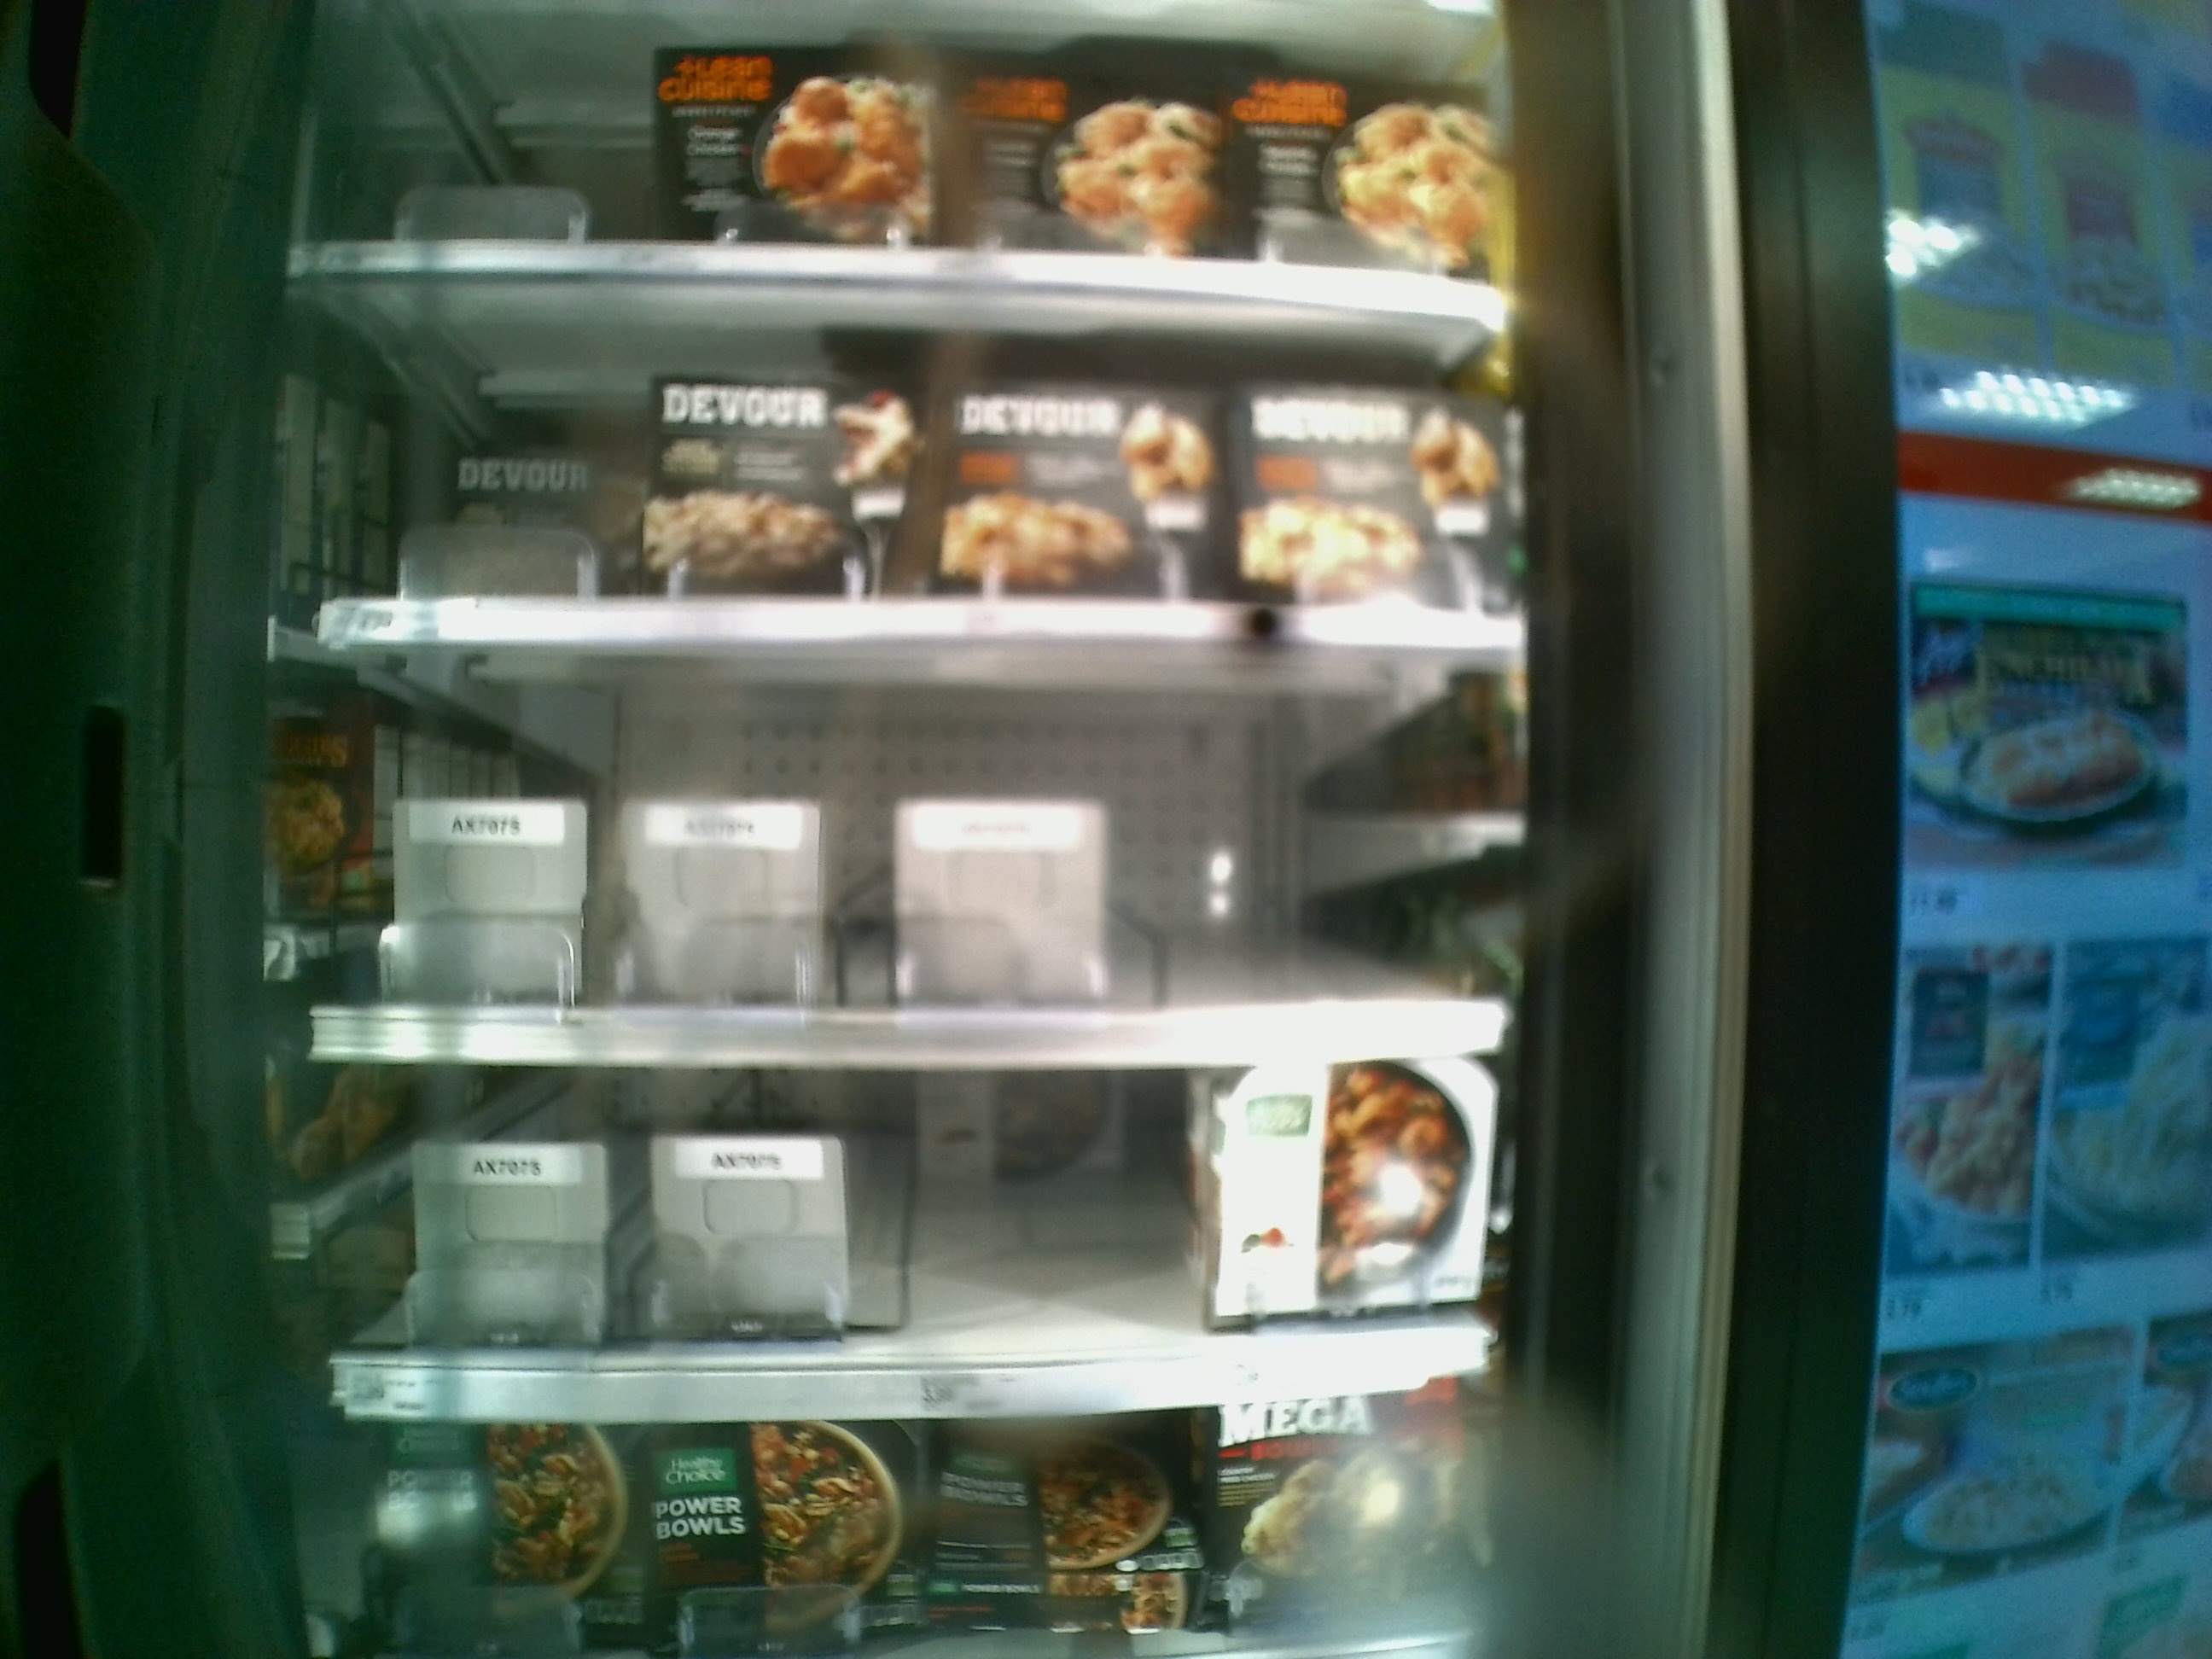Shelf: (314, 636, 1521, 1060), (291, 277, 1541, 648), (314, 1065, 1521, 1412)
